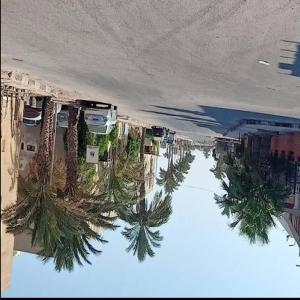palm tree: (209, 135, 293, 247)
